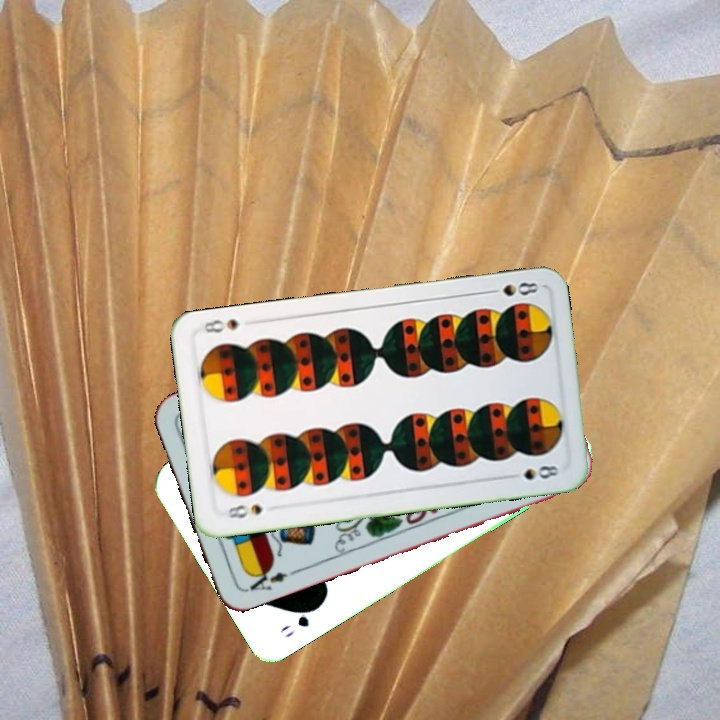EA: (242, 563, 291, 594)
GO: (276, 602, 323, 641)
S8: (482, 278, 541, 299), (224, 500, 265, 521)
